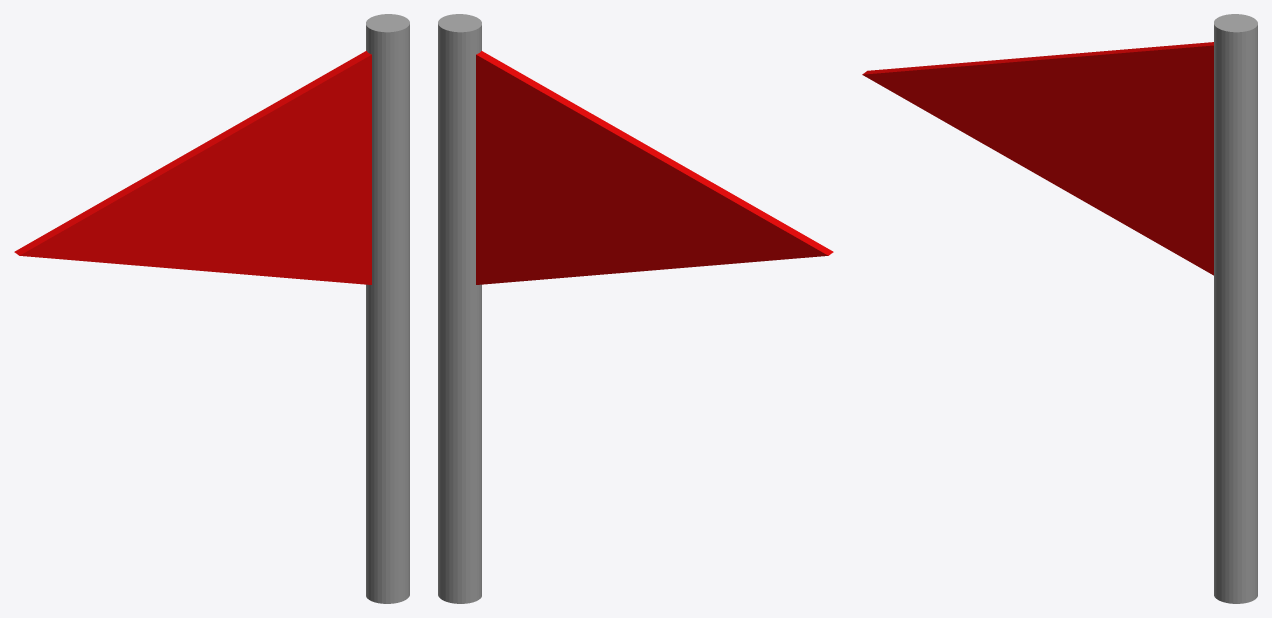
The model's file is flag.fbx.
The picture shows the model from 3 angles, left to right: view 1: azimuth 30°, elevation 25°; view 2: azimuth 150°, elevation 25°; view 3: azimuth 330°, elevation 25°; orthographic projection.
Parts seen in each view (by area): view 1: Cylinder; view 2: Cylinder; view 3: Cylinder.
Part boxes in pixels (x1,y1,x2,y2): Cylinder: (14, 14, 409, 603); Cylinder: (438, 14, 833, 603); Cylinder: (862, 14, 1257, 603).
Bounding box in the file's own units: 421 × 589 × 40.
